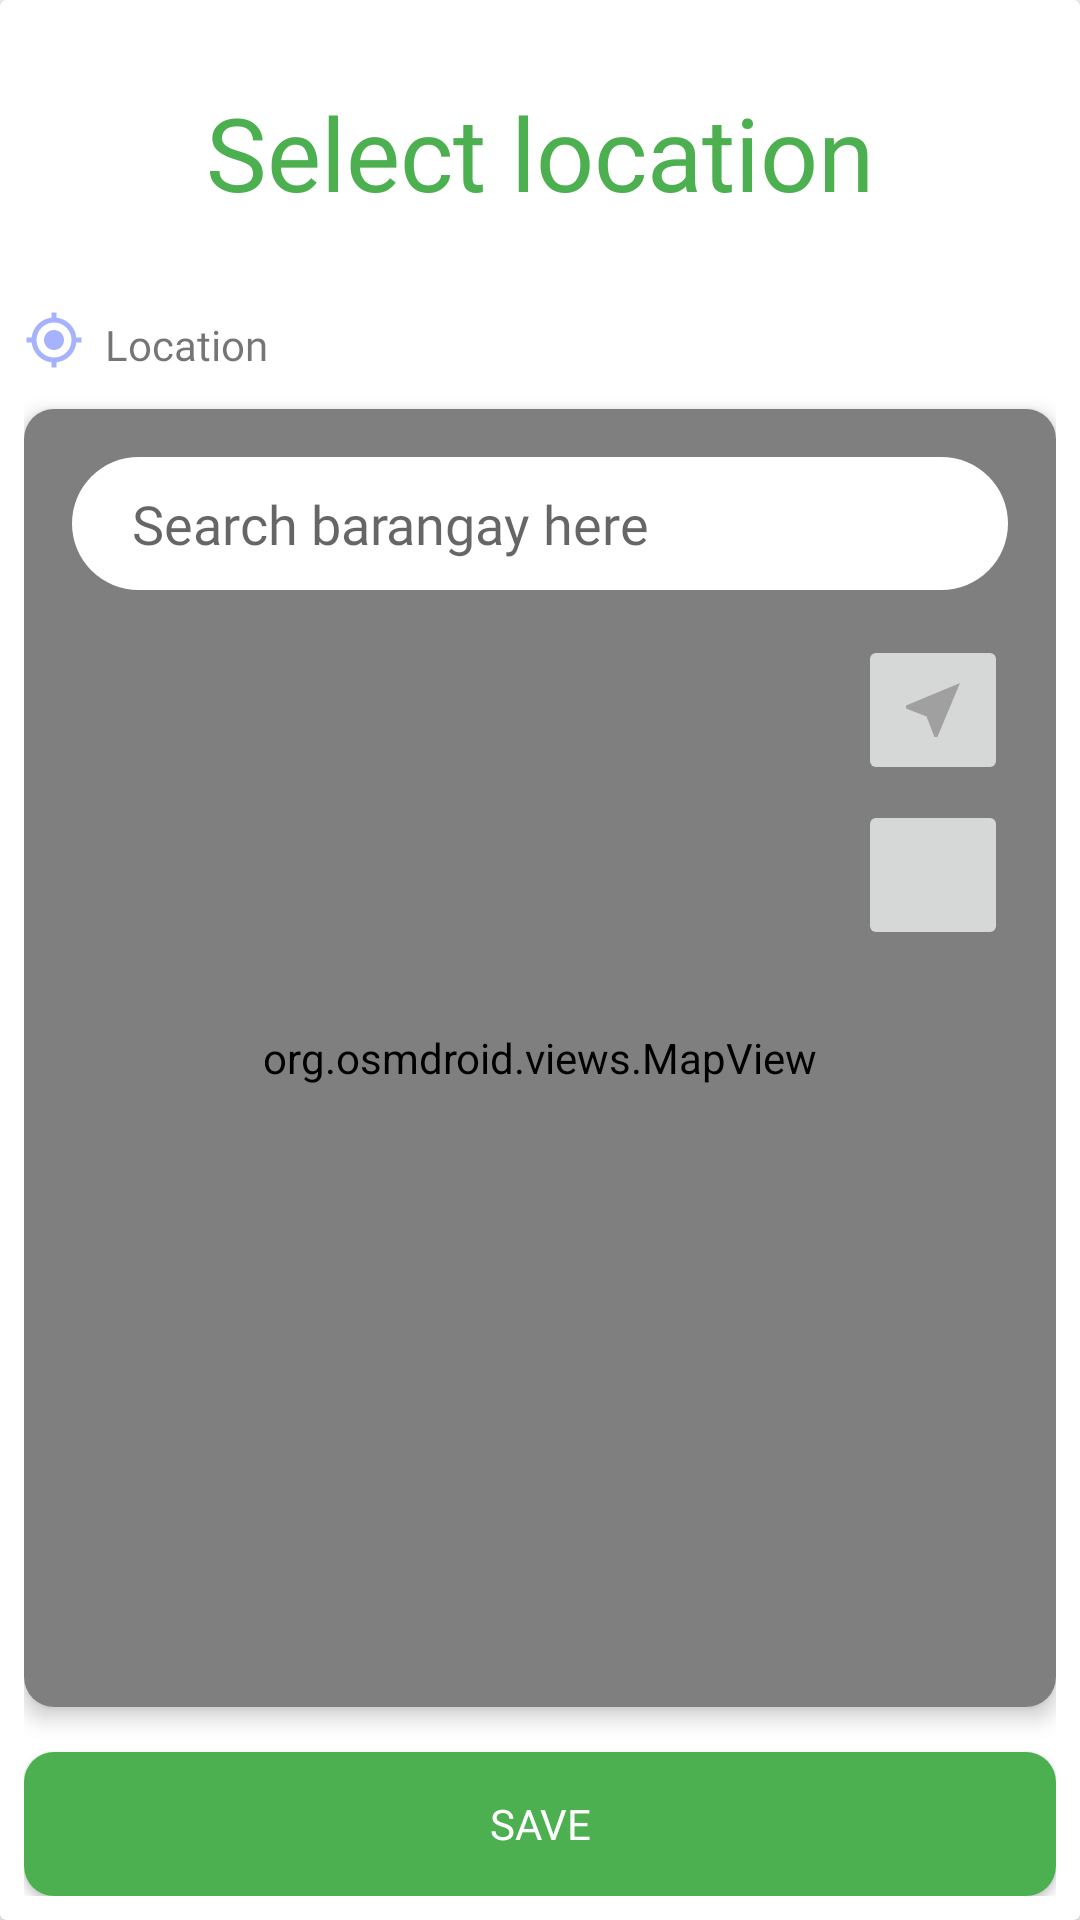

Screen size 1080 × 1920. Icon name, then its center in pixels as (x,y):
setlocationauto: (933,710)
